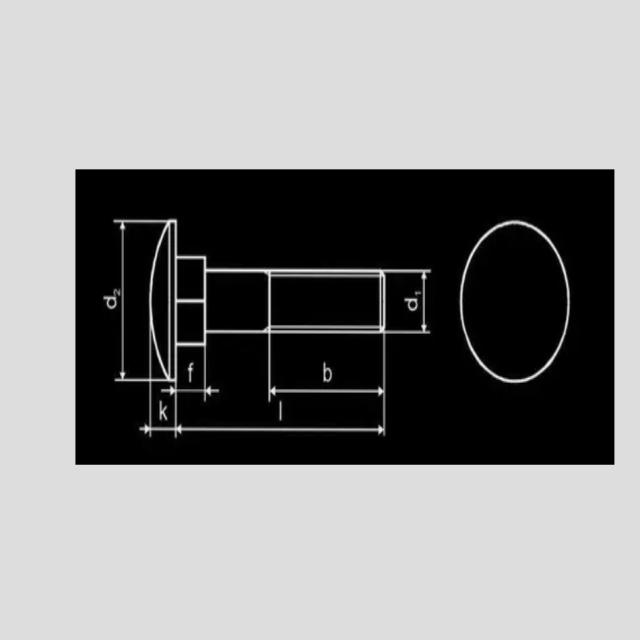marking_line: (137, 384, 387, 442), (172, 382, 389, 439), (267, 334, 387, 403), (112, 217, 148, 383), (386, 268, 432, 334), (136, 384, 157, 443), (162, 382, 220, 400)
